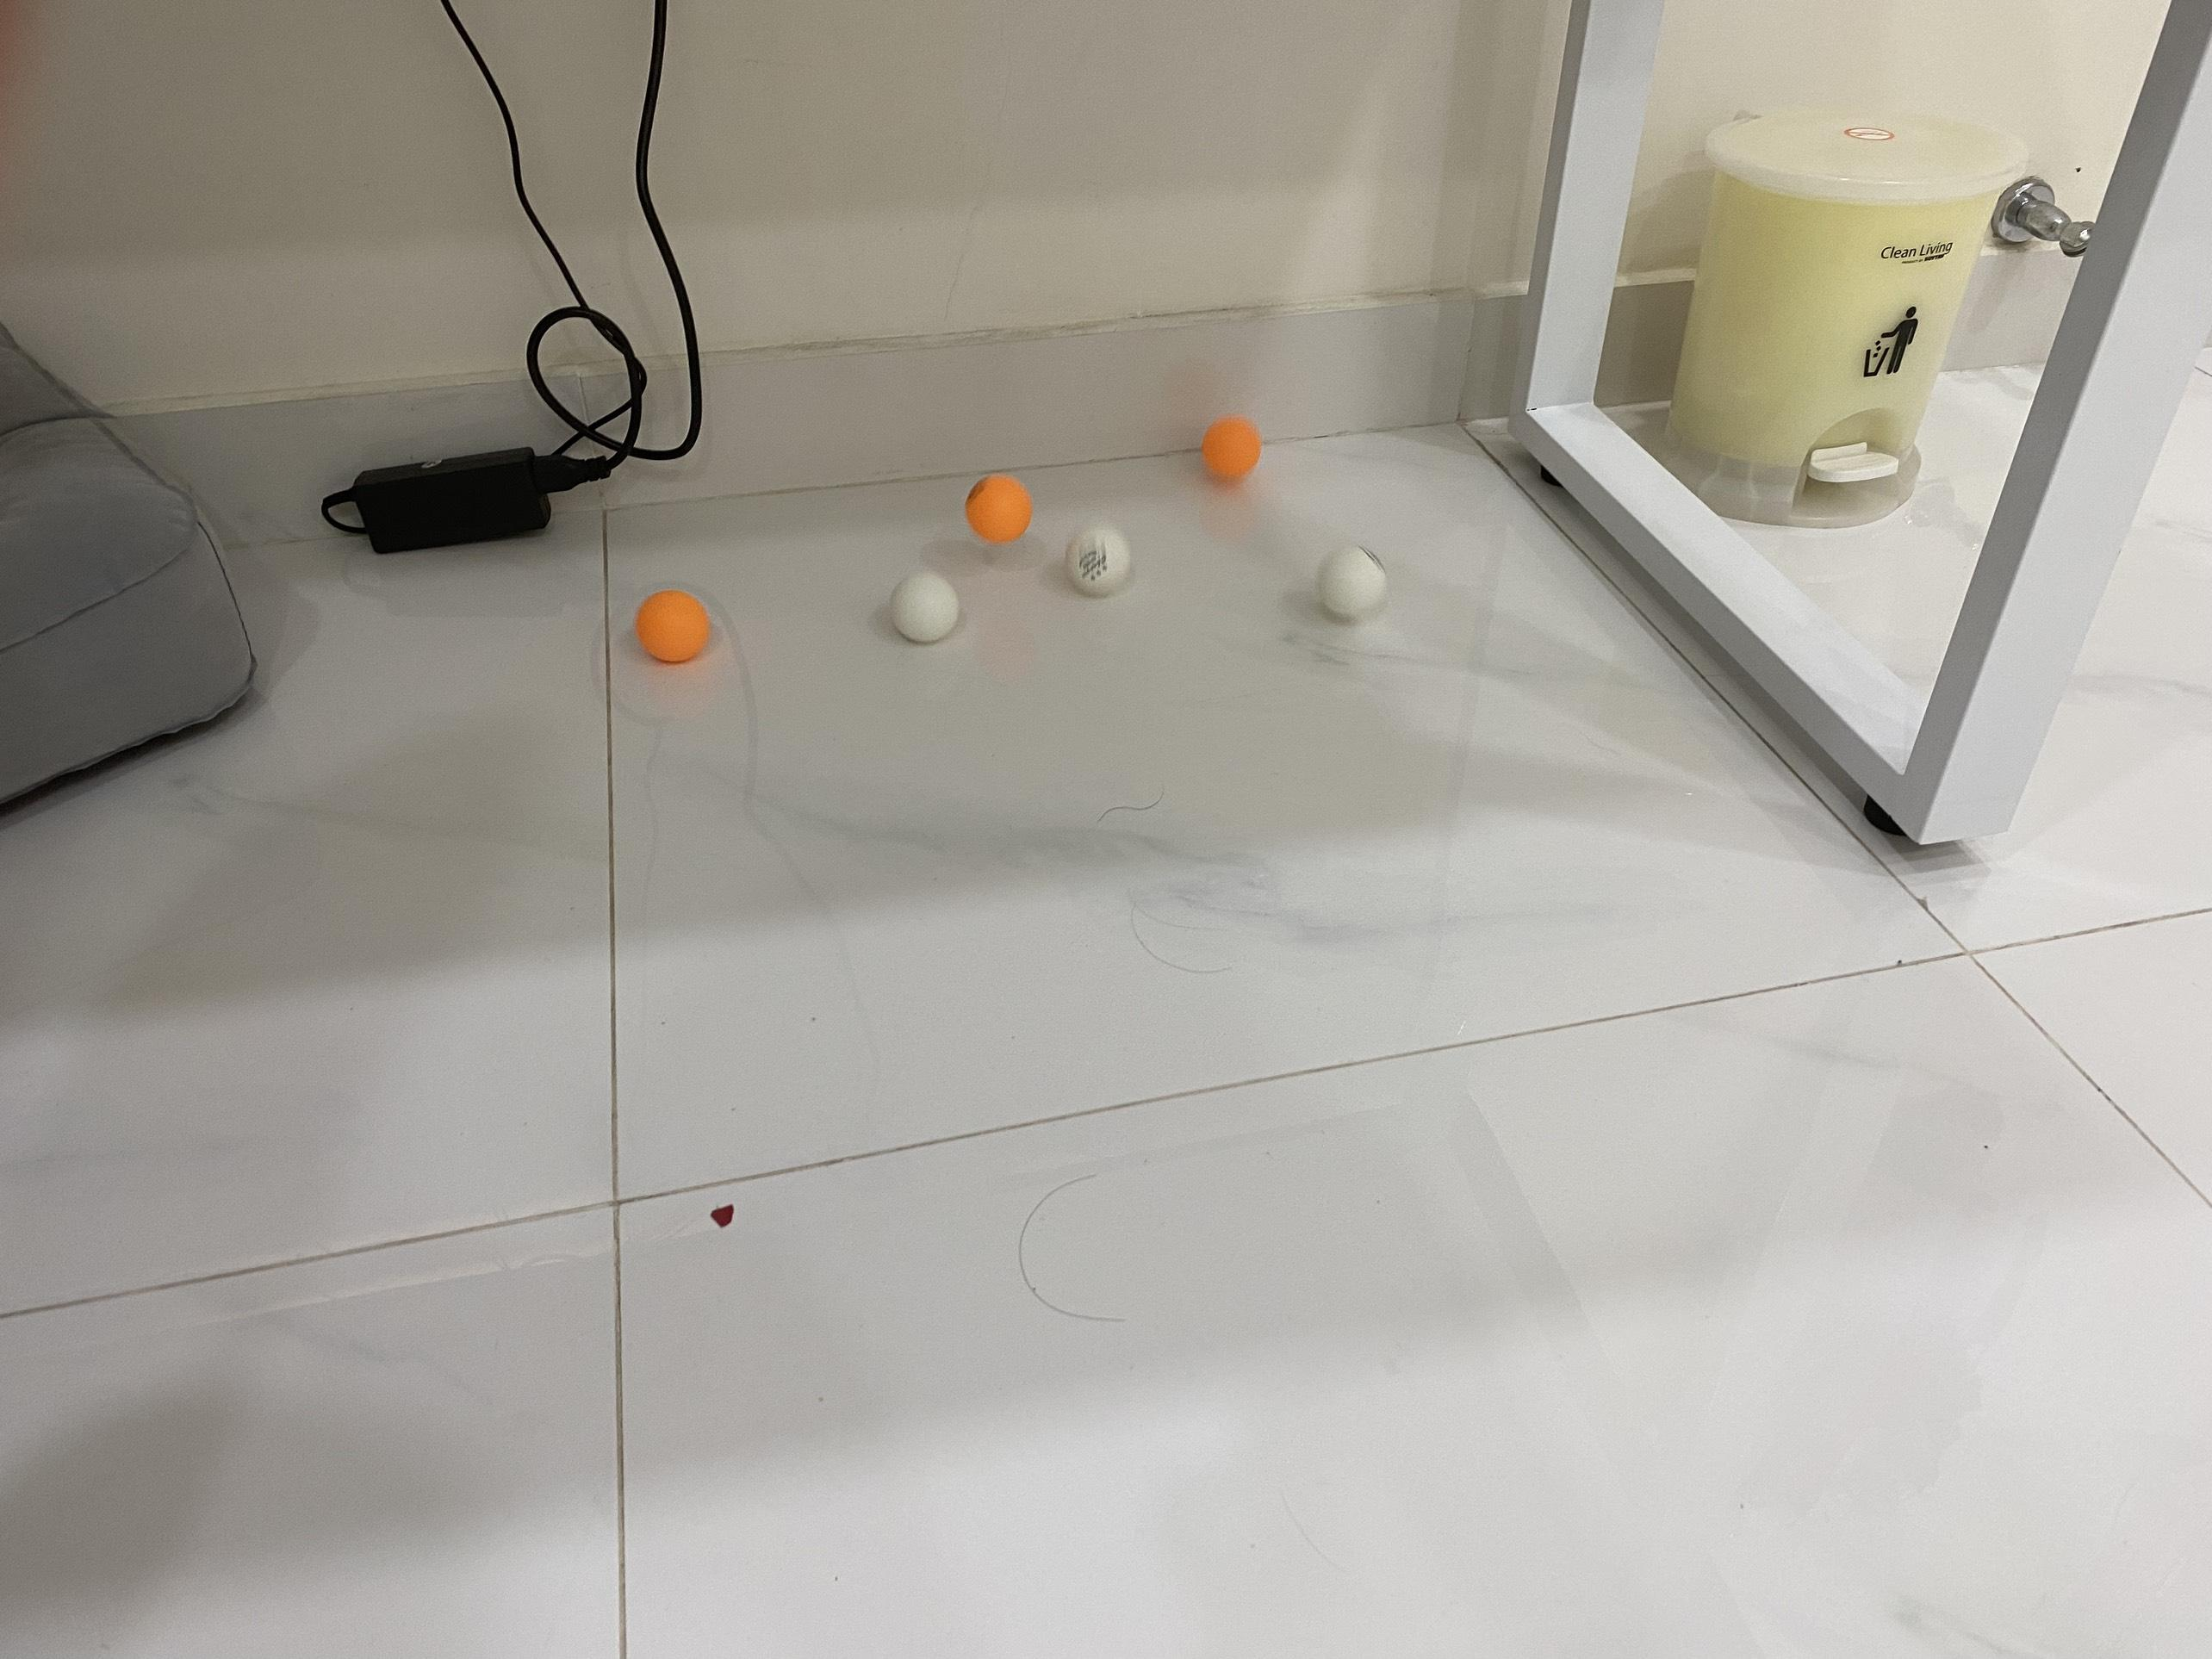oball: (636, 587, 711, 666), (968, 469, 1031, 538), (1202, 413, 1259, 477)
